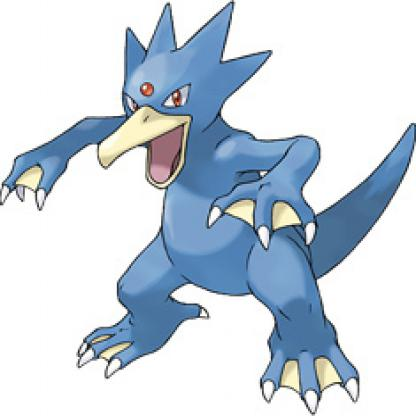Golduck: (1, 1, 416, 414)
